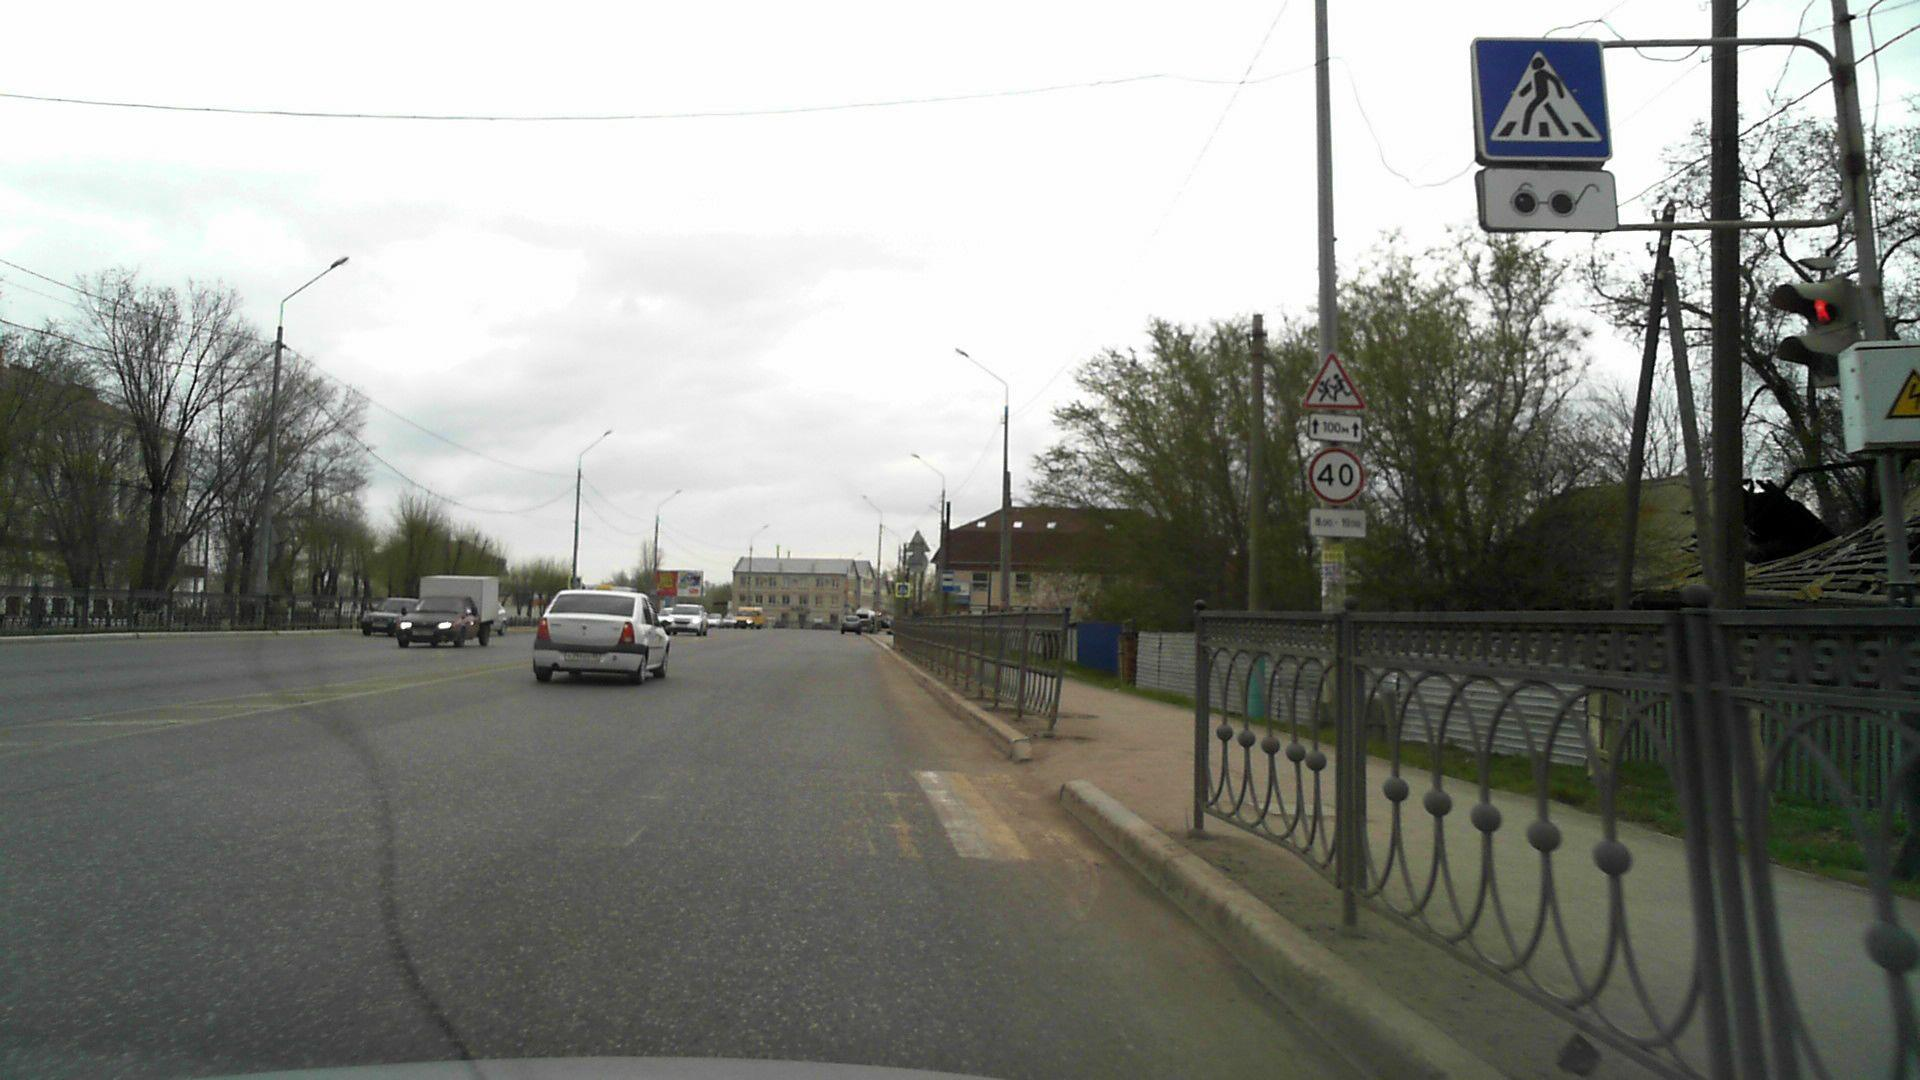1_23: (1298, 351, 1364, 409)
3_24: (1309, 448, 1362, 502)
5_16: (940, 571, 956, 593)
5_19_1: (1472, 33, 1611, 166), (898, 583, 910, 596)
5_19_2: (568, 576, 580, 588)
8_2_1: (1308, 411, 1362, 444)
8_5_4: (1308, 508, 1366, 537)
